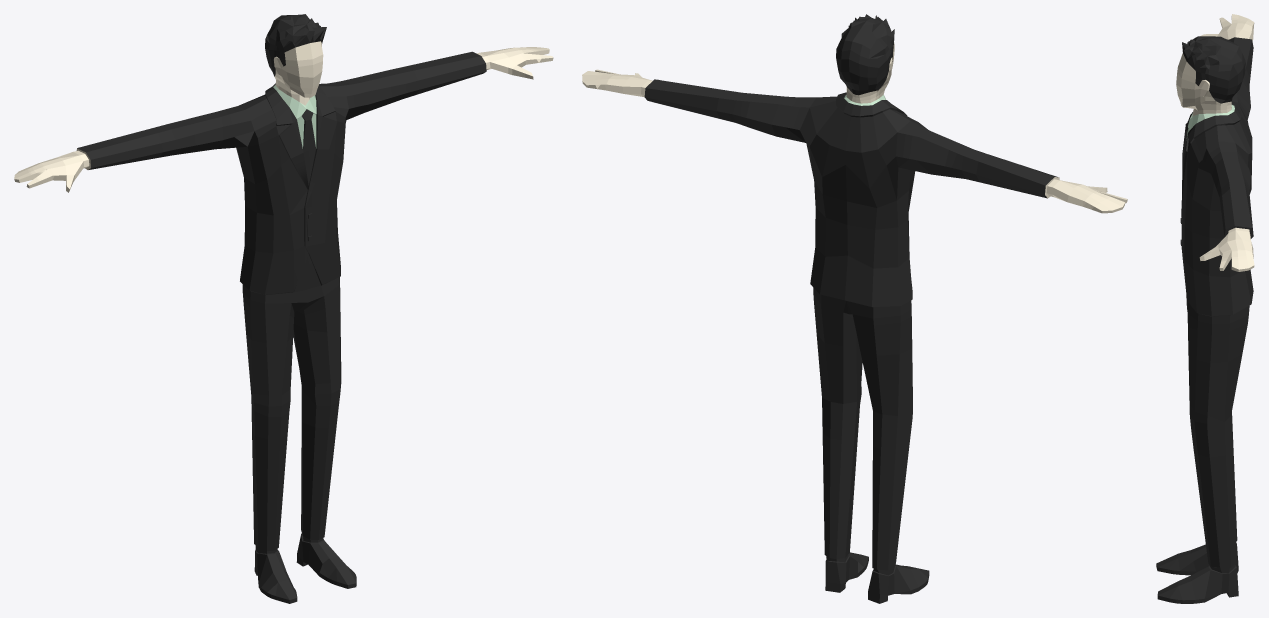
File: spi.glb
The picture shows the model from 3 angles, left to right: view 1: azimuth 30°, elevation 25°; view 2: azimuth 150°, elevation 25°; view 3: azimuth 270°, elevation 25°; orthographic projection. The views are drawn at different scales.
Visible parts, largest first — view 1: spi; view 2: spi; view 3: spi.
Boxes of the visible parts, x1,y1,x2,y2 form: spi: (14,14,553,603); spi: (582,14,1127,603); spi: (1156,14,1254,603).
Size of the model in its own units: 1.7 by 1.7 by 0.2769.
